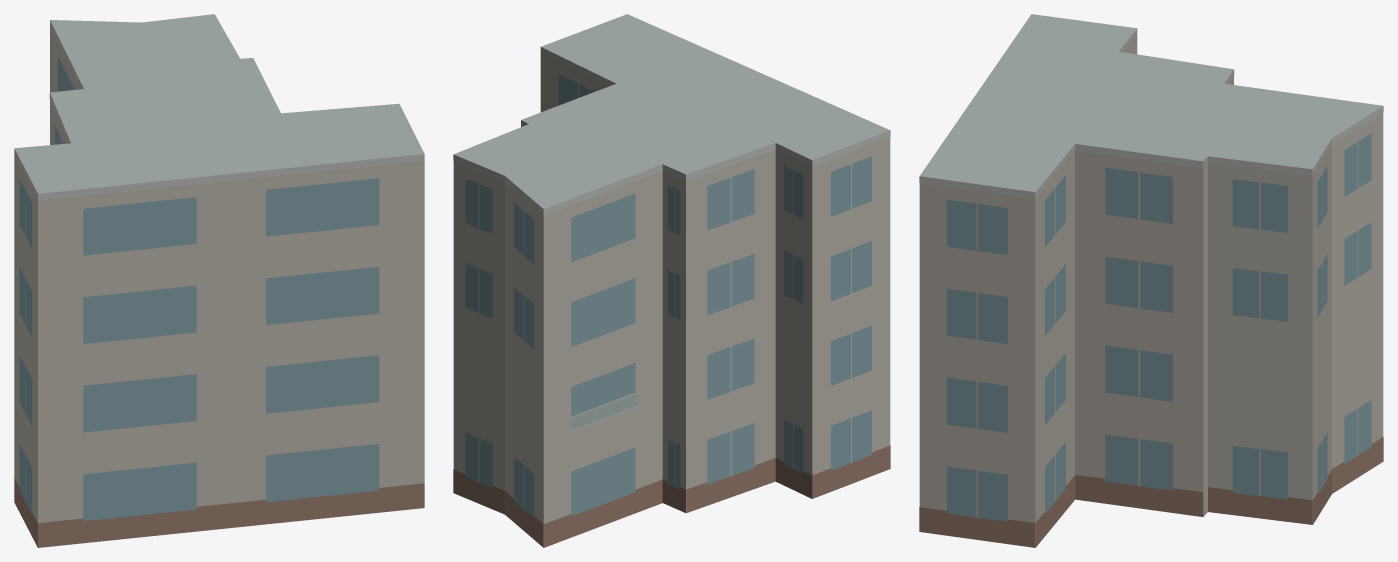
Rendered from survey-upis-32461067.glb.
3 views of the same model, side by side, from view 1: azimuth 30°, elevation 25°; view 2: azimuth 150°, elevation 25°; view 3: azimuth 270°, elevation 25° (orthographic). The views are drawn at different scales.
Visible parts, largest first — view 1: survey-upis-32461067.tmp; view 2: survey-upis-32461067.tmp; view 3: survey-upis-32461067.tmp.
Boxes of the visible parts, <box> form: survey-upis-32461067.tmp: <box>14,14,424,547</box>; survey-upis-32461067.tmp: <box>453,14,890,547</box>; survey-upis-32461067.tmp: <box>919,14,1383,547</box>.
Size of the model in its own units: 13.76 by 12.8 by 15.14.
